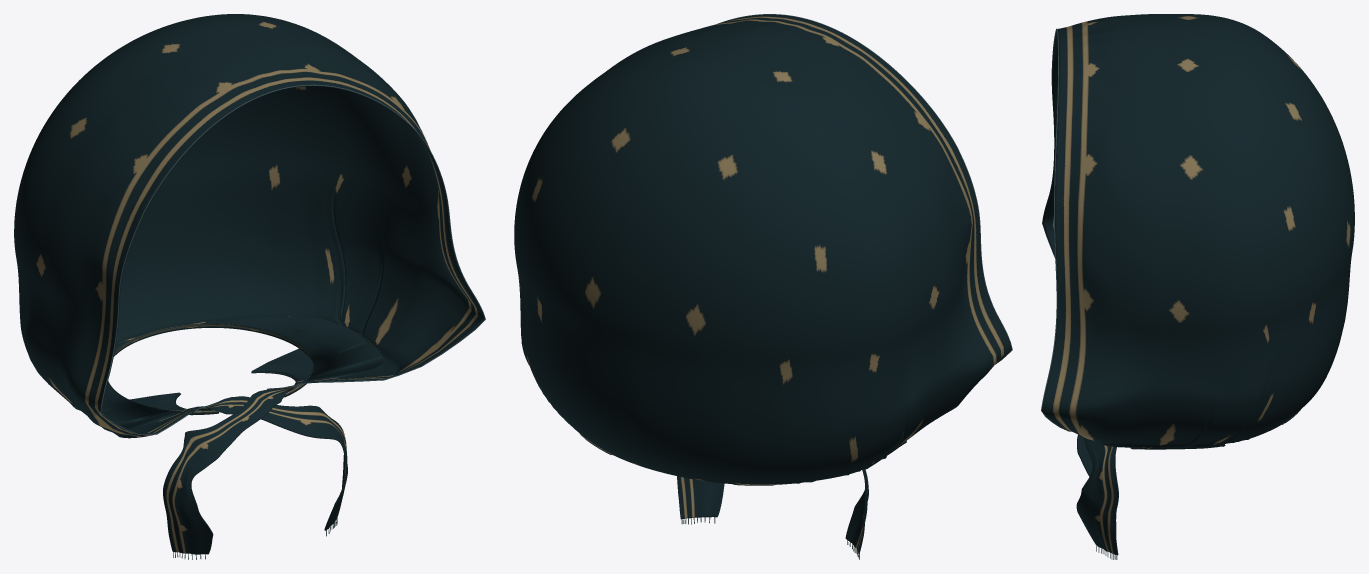
The model's file is Feminine-straight-triangle-pashmina250-headgear.glb.
3 renders of one model, left to right at view 1: azimuth 30°, elevation 25°; view 2: azimuth 150°, elevation 25°; view 3: azimuth 270°, elevation 25°, orthographic. The views are drawn at different scales.
Visible parts, largest first — view 1: 226 headgear / Headwear / continuous woven pashmina239, 226 headgear / Headwear / face edge239; view 2: 226 headgear / Headwear / continuous woven pashmina239, 226 headgear / Headwear / face edge239; view 3: 226 headgear / Headwear / continuous woven pashmina239, 226 headgear / Headwear / face edge239.
Part boxes in pixels (left/top/right/bottom): 226 headgear / Headwear / continuous woven pashmina239: left=14, top=14, right=484, bottom=554; 226 headgear / Headwear / face edge239: left=100, top=84, right=485, bottom=434; 226 headgear / Headwear / continuous woven pashmina239: left=514, top=14, right=1011, bottom=553; 226 headgear / Headwear / face edge239: left=717, top=14, right=1012, bottom=363; 226 headgear / Headwear / continuous woven pashmina239: left=1042, top=14, right=1354, bottom=555; 226 headgear / Headwear / face edge239: left=1041, top=28, right=1070, bottom=431.
Bounding box in the file's own units: 1.15 × 1.39 × 0.8123.
3 materials, 1 textured.
